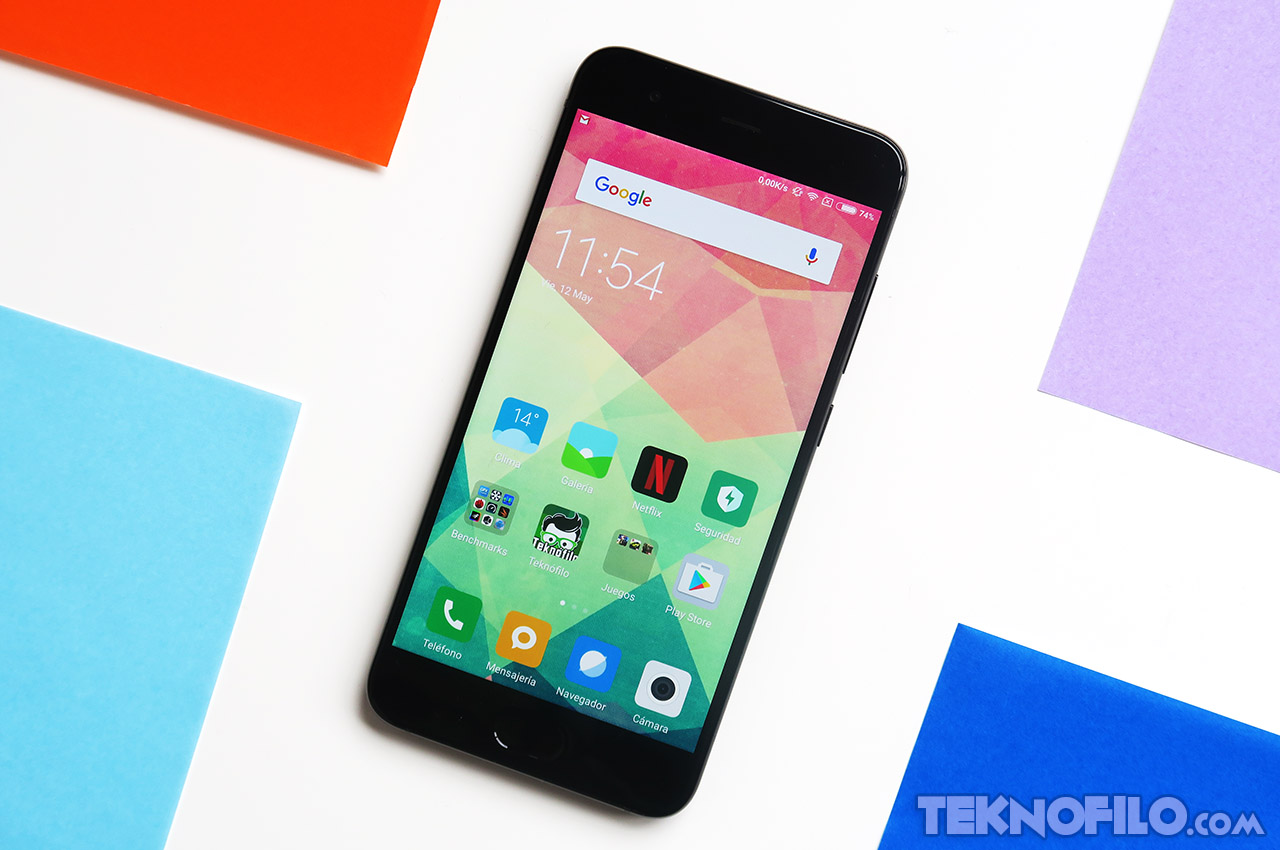smartphone: (364, 46, 907, 818)
